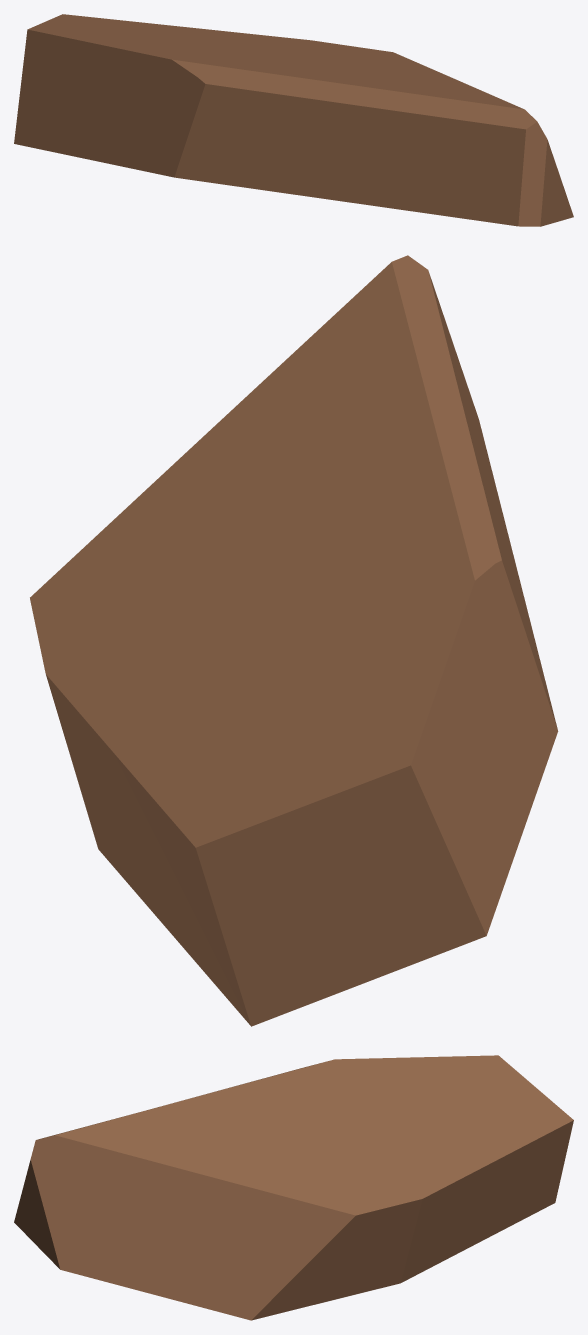
The model's file is WoodCellCube_003_cell_009.fbx.
The picture shows the model from 3 angles, top to bottom: view 1: azimuth 30°, elevation 25°; view 2: azimuth 150°, elevation 25°; view 3: azimuth 270°, elevation 25°; orthographic projection. The views are drawn at different scales.
Parts seen in each view (by area): view 1: WoodCellCube_003_cell_009; view 2: WoodCellCube_003_cell_009; view 3: WoodCellCube_003_cell_009.
Part boxes in pixels (left/top/right/bottom): WoodCellCube_003_cell_009: left=14, top=14, right=573, bottom=226; WoodCellCube_003_cell_009: left=30, top=255, right=558, bottom=1026; WoodCellCube_003_cell_009: left=14, top=1055, right=573, bottom=1320.
Bounding box in the file's own units: 1.21 × 0.3821 × 0.8028.
Materials: 1 (1 with a texture image).
